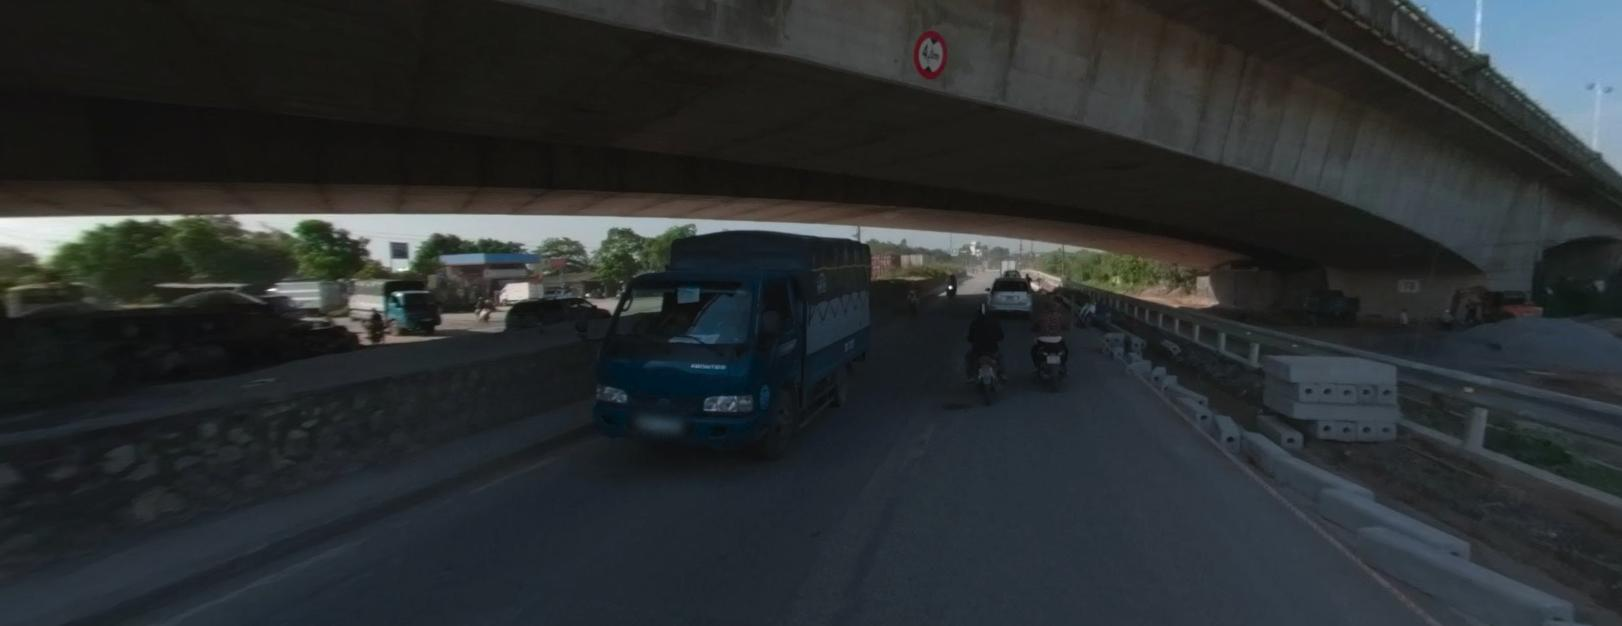Cam con lai: (903, 26, 957, 87)
